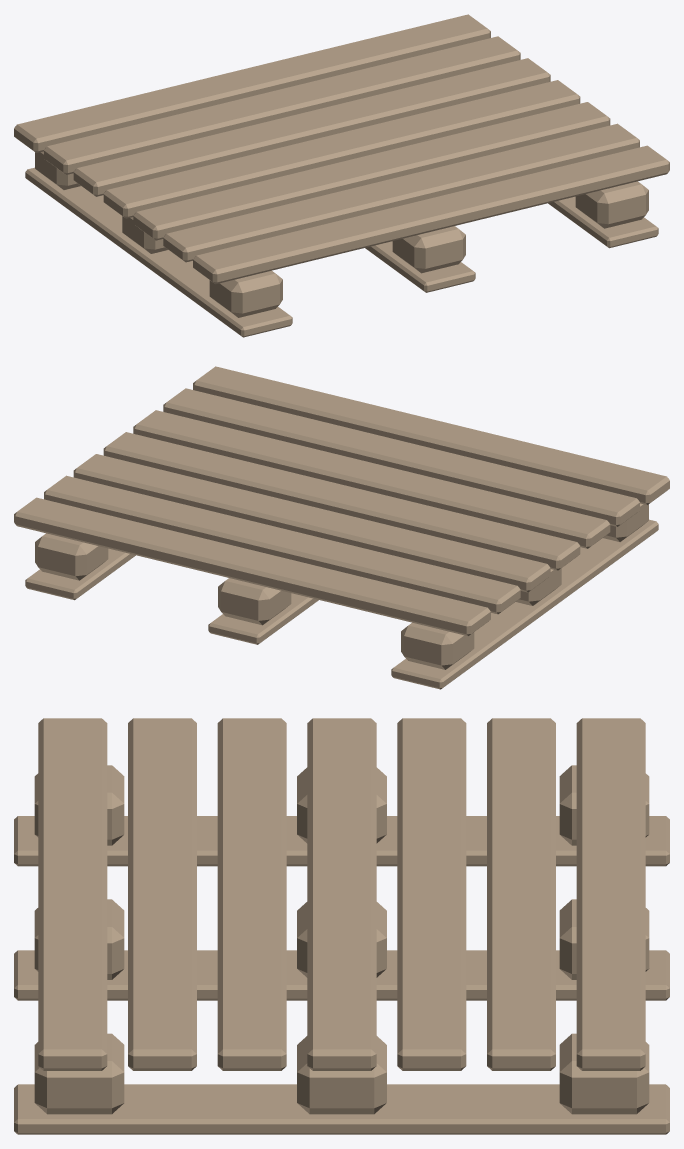
Rendered from logistics_02.glb.
3 renders of one model, top to bottom at view 1: azimuth 30°, elevation 25°; view 2: azimuth 150°, elevation 25°; view 3: azimuth 270°, elevation 25°, orthographic. The views are drawn at different scales.
Parts seen in each view (by area): view 1: PalletBoard (×7), BottomRunner (×3), PalletBlock (×5); view 2: PalletBoard (×7), BottomRunner (×3), PalletBlock (×5); view 3: PalletBoard (×7), BottomRunner (×3), PalletBlock (×9).
Boxes of the visible parts, x1,y1,x2,y2 form: PalletBoard (×7): (14,14,669,284); BottomRunner (×3): (25,167,658,337); PalletBlock (×5): (35,151,648,317); PalletBoard (×7): (14,366,669,636); BottomRunner (×3): (25,519,658,689); PalletBlock (×5): (35,503,648,669); PalletBoard (×7): (38,718,645,1070); BottomRunner (×3): (14,816,669,1134); PalletBlock (×9): (34,765,649,1114).
Size of the model in its own units: 1.15 by 0.159 by 0.95.
